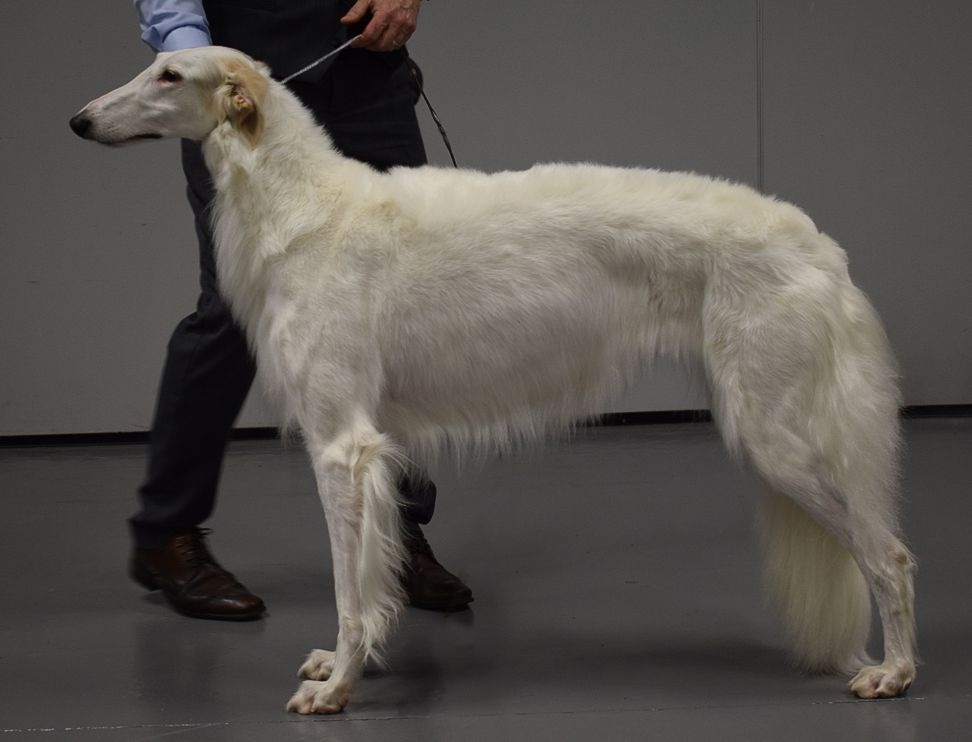borzoi: (35, 43, 946, 720)
